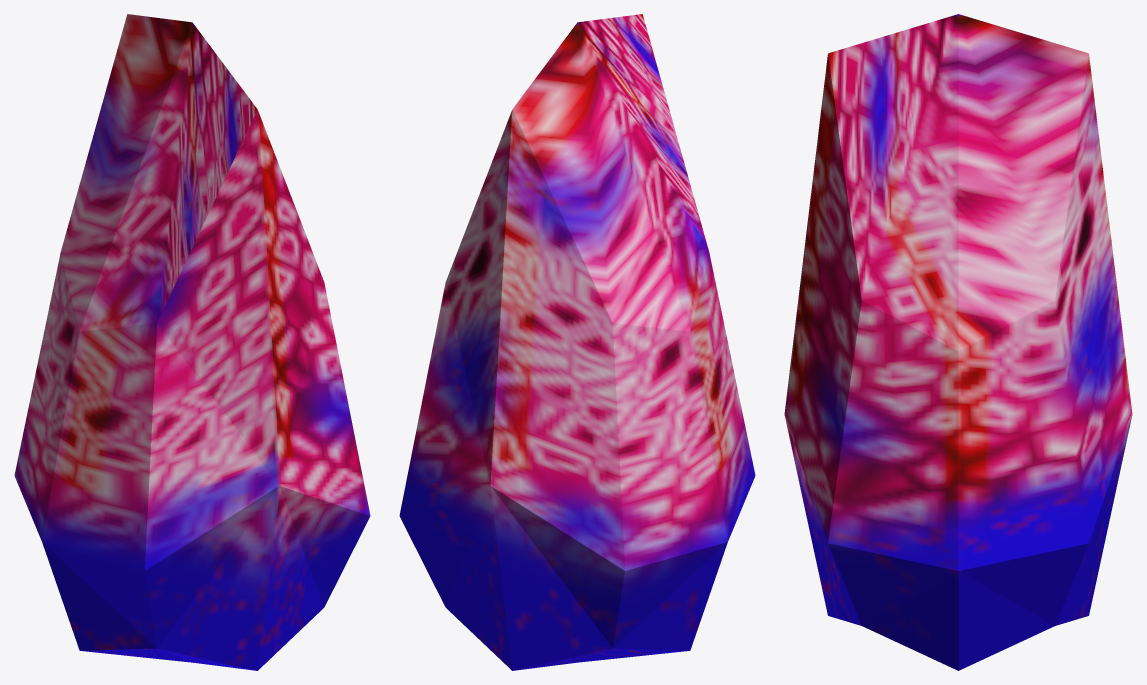
Rendered from bullet.obj.
3 views of the same model, side by side, from view 1: azimuth 30°, elevation 25°; view 2: azimuth 150°, elevation 25°; view 3: azimuth 270°, elevation 25° (orthographic).
Parts seen in each view (by area): view 1: plasma_bullet; view 2: plasma_bullet; view 3: plasma_bullet.
Part boxes in pixels (x1,y1,x2,y2): plasma_bullet: (14, 14, 370, 670); plasma_bullet: (399, 14, 755, 670); plasma_bullet: (784, 14, 1132, 670).
Bounding box in the file's own units: 20 × 40.66 × 20.
1 material, 1 textured.
